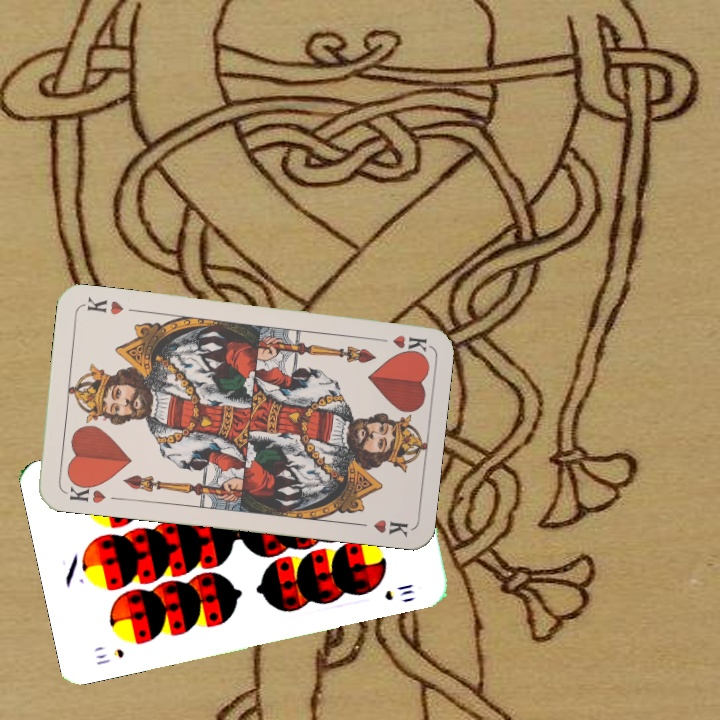HK: (370, 331, 429, 355), (61, 477, 108, 506)
S10: (92, 644, 126, 668)
